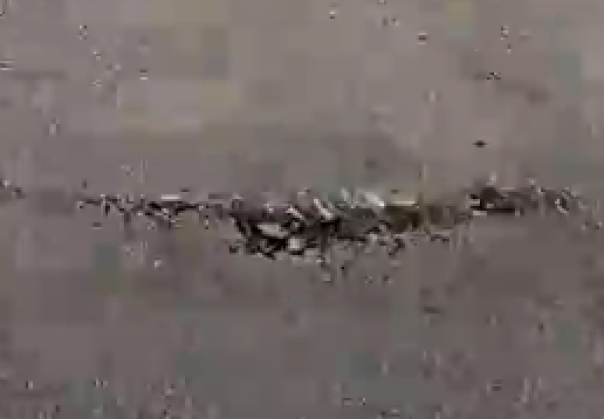Retak Melintang: (18, 111, 604, 314)
